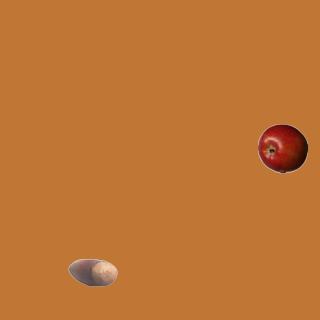Apple Braeburn: (257, 123, 307, 173)
Hazelnut: (67, 247, 117, 297)
